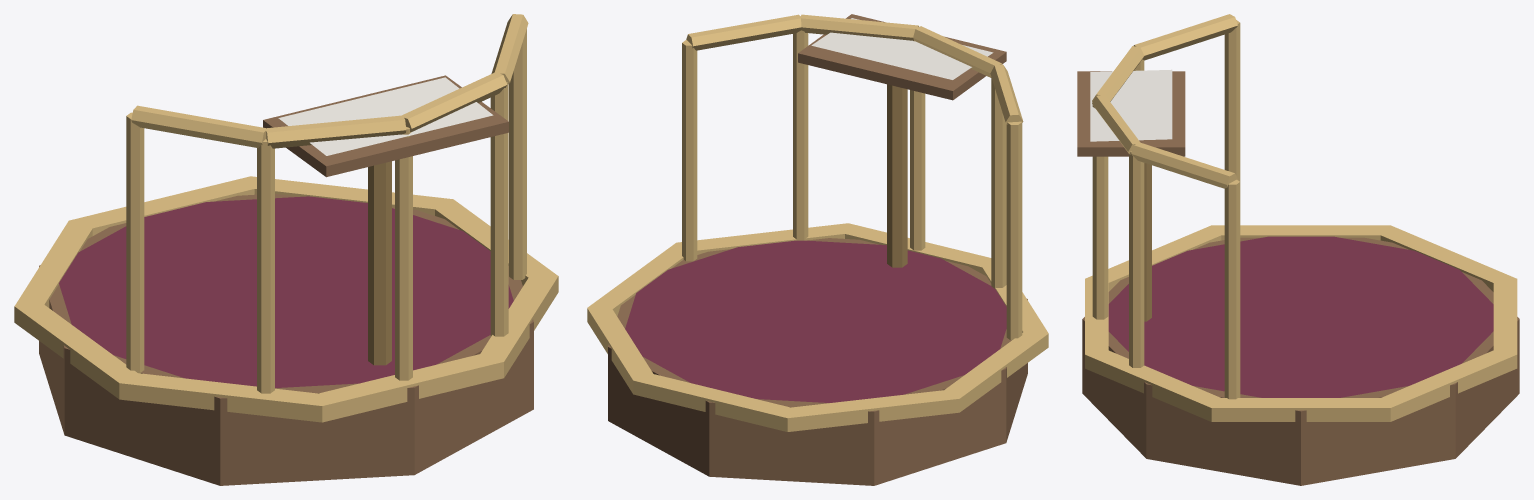
The model's file is ConductorPodium.obj.
The picture shows the model from 3 angles, left to right: view 1: azimuth 30°, elevation 25°; view 2: azimuth 150°, elevation 25°; view 3: azimuth 270°, elevation 25°; orthographic projection. The views are drawn at different scales.
Visible parts, largest first — view 1: ConductorPodium; view 2: ConductorPodium; view 3: ConductorPodium.
Part boxes in pixels (box(x1,y1,x2,y2)): ConductorPodium: box(14, 14, 558, 485); ConductorPodium: box(587, 14, 1048, 485); ConductorPodium: box(1077, 14, 1519, 485).
Bounding box in the file's own units: 1.7 × 1.28 × 1.72.
1 material, 1 textured.
